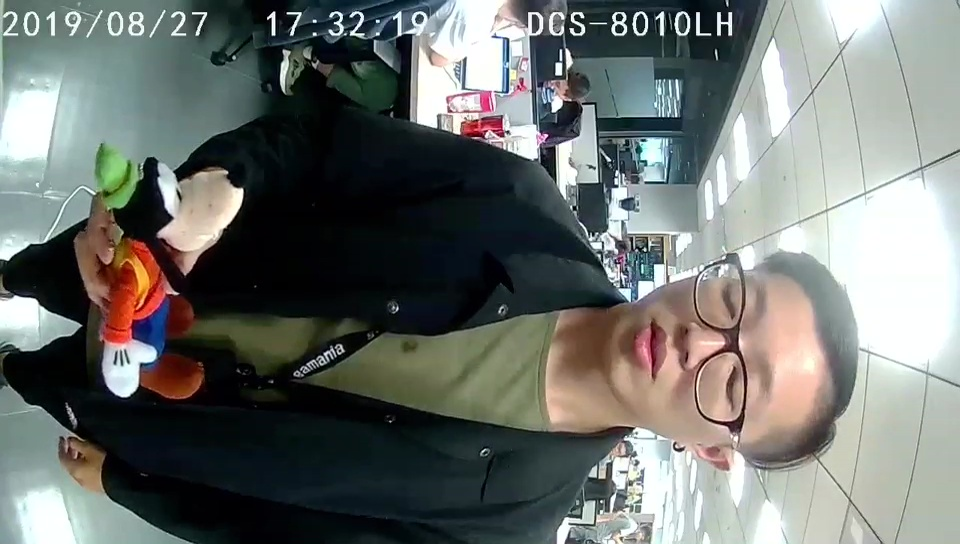goofy: (94, 141, 244, 398)
